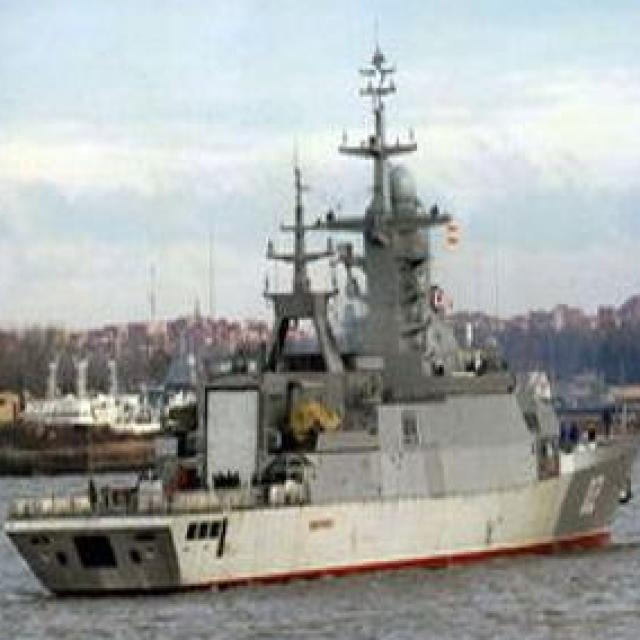navalvessels: (8, 30, 638, 595)
